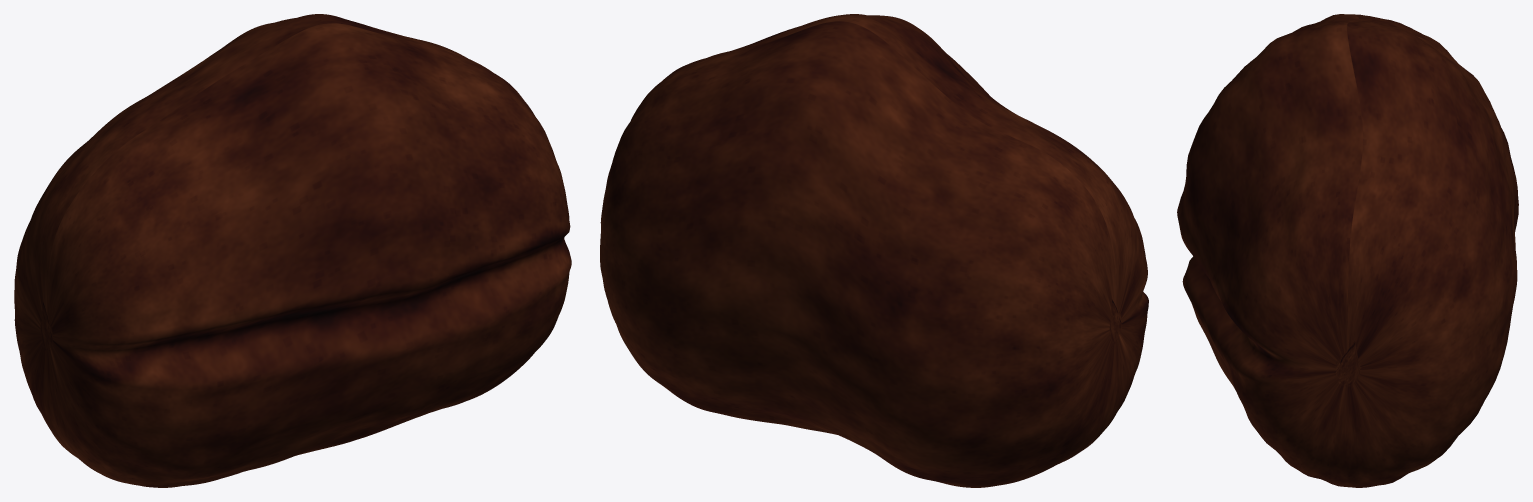
Rendered from robusta.glb.
3 views of the same model, side by side, from view 1: azimuth 30°, elevation 25°; view 2: azimuth 150°, elevation 25°; view 3: azimuth 270°, elevation 25° (orthographic). The views are drawn at different scales.
Visible parts, largest first — view 1: Cafe_robusta; view 2: Cafe_robusta; view 3: Cafe_robusta.
Boxes of the visible parts, bbox=[...] form: Cafe_robusta: bbox=[14, 14, 571, 487]; Cafe_robusta: bbox=[600, 14, 1148, 487]; Cafe_robusta: bbox=[1177, 14, 1518, 487].
Size of the model in its own units: 0.01 by 0.00826 by 0.00623.
Materials: 1 (1 with a texture image).
